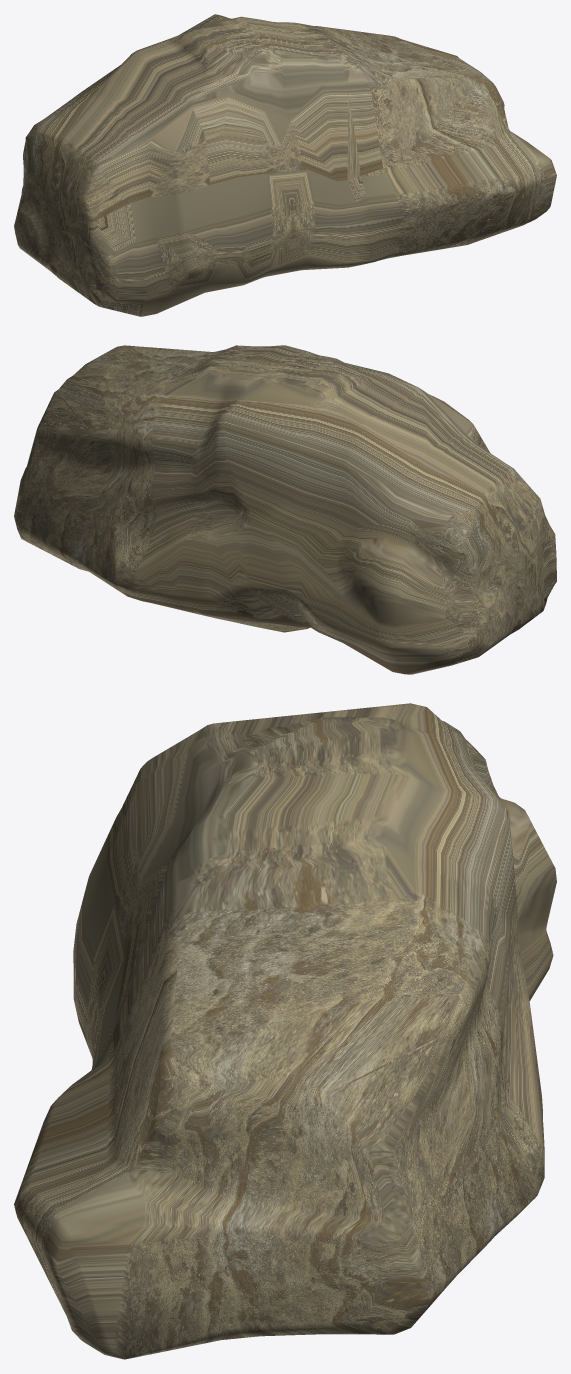
Rendered from saltmine_rock_large_02.dae.
3 views of the same model, one above another, from view 1: azimuth 30°, elevation 25°; view 2: azimuth 150°, elevation 25°; view 3: azimuth 270°, elevation 25° (orthographic). The views are drawn at different scales.
Visible parts, largest first — view 1: large_02; view 2: large_02; view 3: large_02.
Part boxes in pixels (<box>): large_02: <box>14,14,556,316</box>; large_02: <box>14,345,556,674</box>; large_02: <box>14,703,556,1359</box>.
Size of the model in its own units: 3.89 by 1.93 by 2.15.
